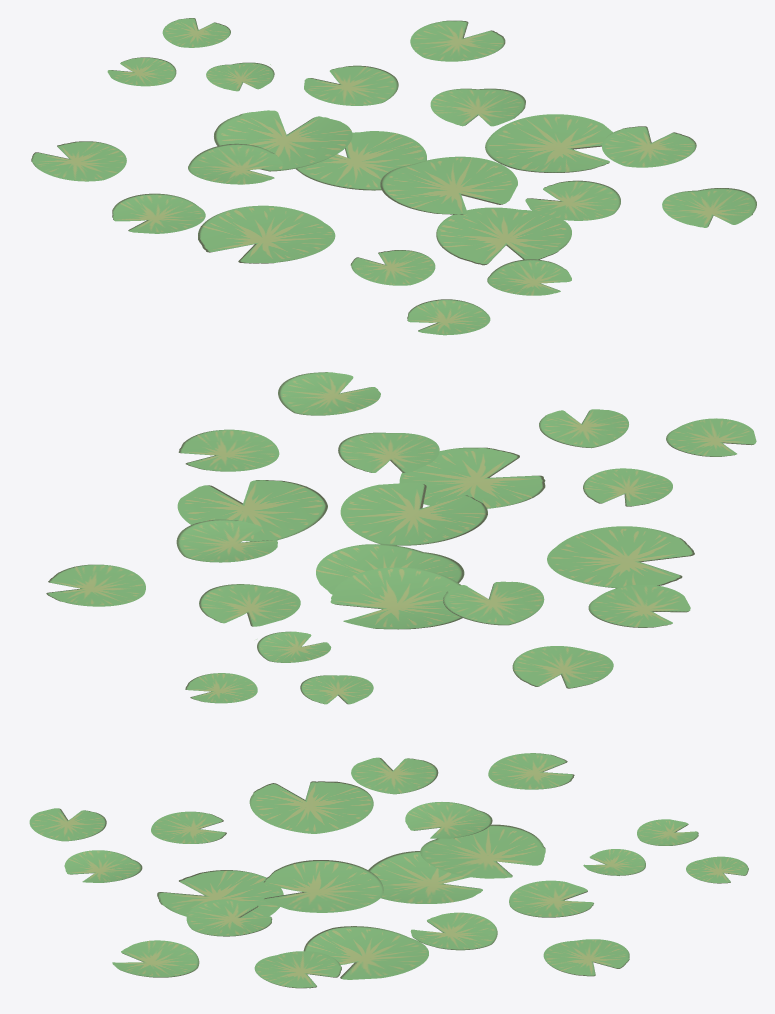
The model's file is waterPlants.fbx.
3 renders of one model, top to bottom at view 1: azimuth 30°, elevation 25°; view 2: azimuth 150°, elevation 25°; view 3: azimuth 270°, elevation 25°, orthographic. The views are drawn at different scales.
Visible parts, largest first — view 1: WaterPlants; view 2: WaterPlants; view 3: WaterPlants.
Part boxes in pixels (<box>): WaterPlants: <box>31,18,756,335</box>; WaterPlants: <box>46,372,756,704</box>; WaterPlants: <box>29,753,748,988</box>.
Bounding box in the file's own units: 288 × 8.72 × 359.
